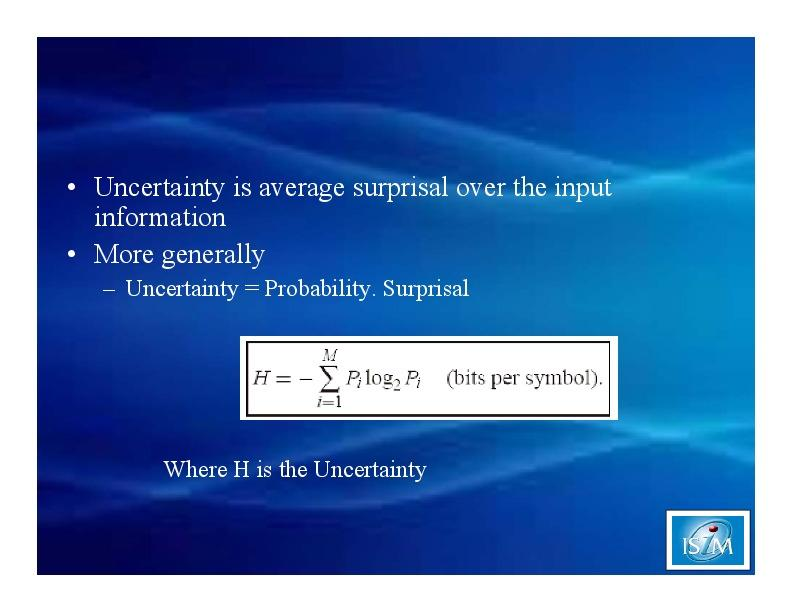paragraph: (61, 154, 665, 499)
